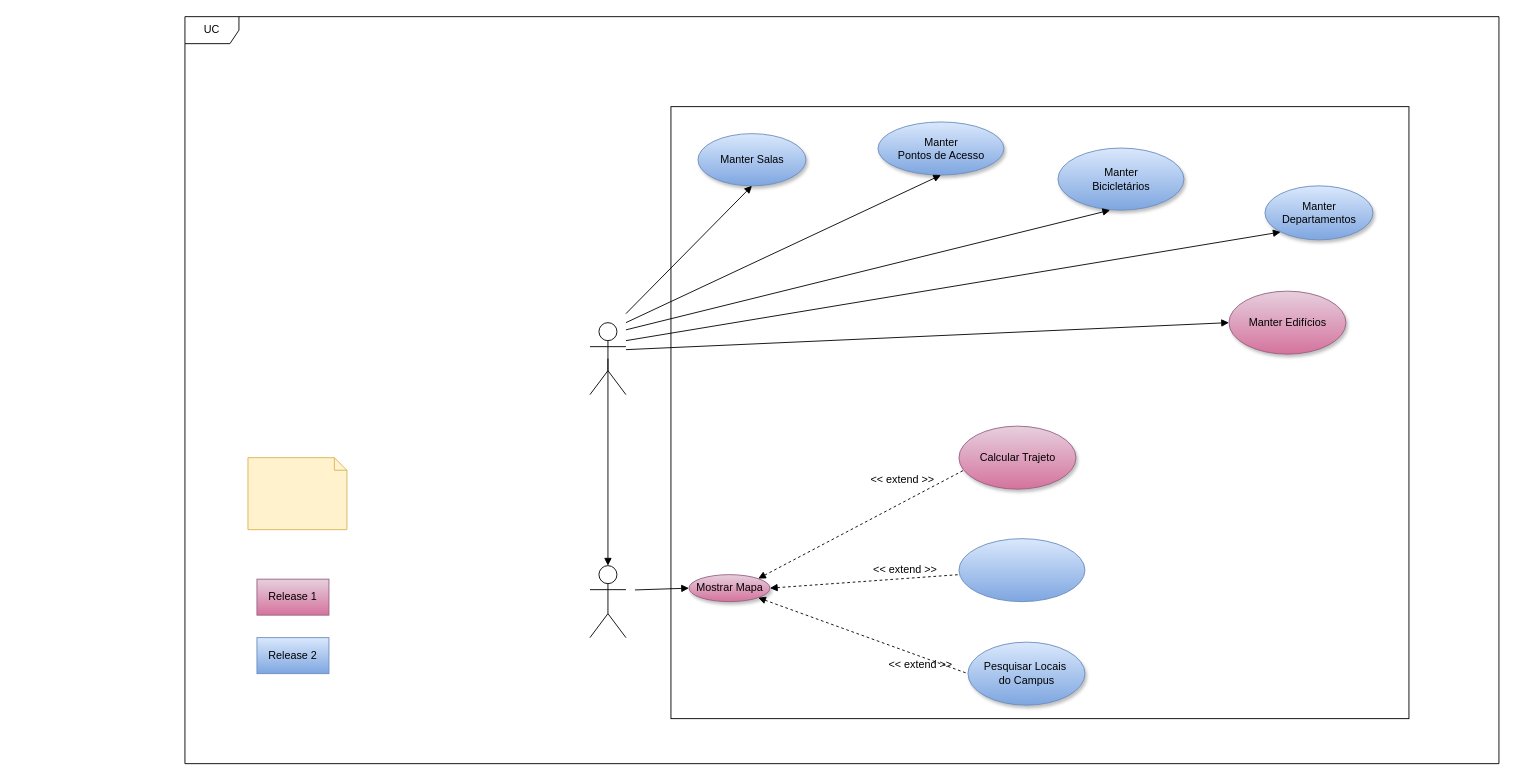
This 1516x779 diagram has some shape labels left out. Each missing label, with the centre of its shape:
Administrador: the point at 607,358
Mostrar Informações: the point at 1021,570
O administrador deve estar devidamente autenticado no sistema.: the point at 297,493
Usuário: the point at 607,601
